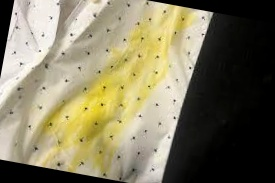mustard: (70, 48, 149, 156), (113, 4, 180, 87), (43, 87, 106, 151)
